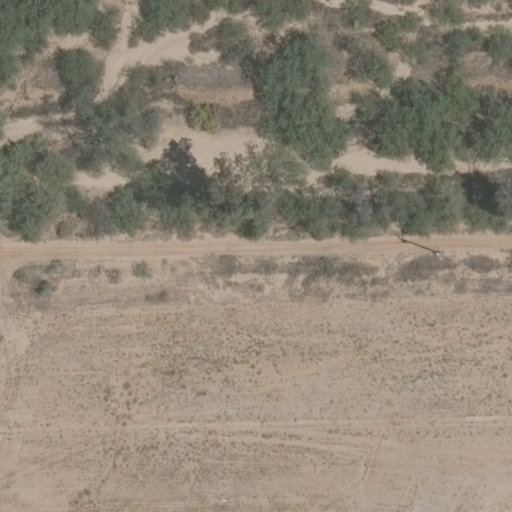DT: (430, 246, 449, 264)
